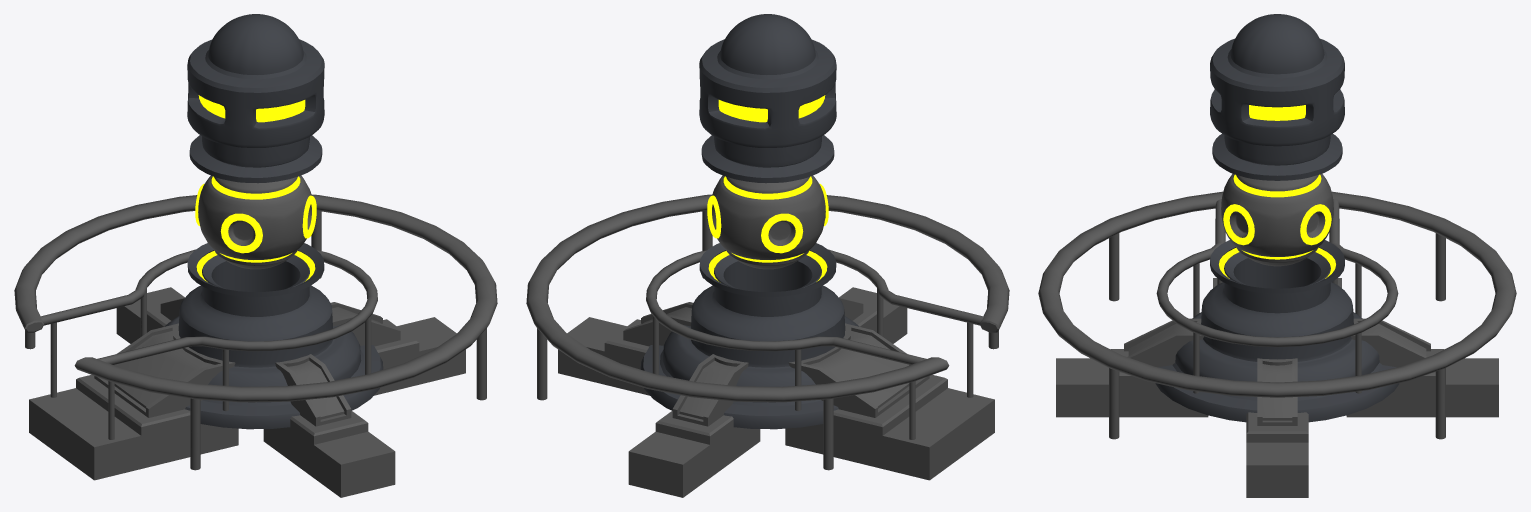
File: GeoThermalCore.fbx
The picture shows the model from 3 angles, left to right: view 1: azimuth 30°, elevation 25°; view 2: azimuth 150°, elevation 25°; view 3: azimuth 270°, elevation 25°; orthographic projection.
Visible parts, largest first — view 1: Main, Supports, Outer_Rail, ORB, Rail, Emissvies; view 2: Main, Supports, Outer_Rail, ORB, Rail, Emissvies; view 3: Main, Supports, Outer_Rail, ORB, Rail, Emissvies.
Boxes of the visible parts, <box> form: Main: <box>164,14,383,429</box>; Supports: <box>29,287,465,497</box>; Outer_Rail: <box>14,194,497,470</box>; ORB: <box>195,175,316,269</box>; Rail: <box>40,249,377,439</box>; Emissvies: <box>196,95,315,281</box>; Main: <box>640,14,859,429</box>; Supports: <box>558,287,994,497</box>; Outer_Rail: <box>526,194,1009,470</box>; ORB: <box>707,175,828,269</box>; Rail: <box>646,249,983,439</box>; Emissvies: <box>708,95,827,281</box>; Main: <box>1155,14,1399,422</box>; Supports: <box>1056,278,1498,497</box>; Outer_Rail: <box>1038,191,1516,439</box>; ORB: <box>1221,174,1333,266</box>; Rail: <box>1156,199,1398,393</box>; Emissvies: <box>1219,105,1335,278</box>.
Bounding box in the file's own units: 12.85 × 11.52 × 12.95.
